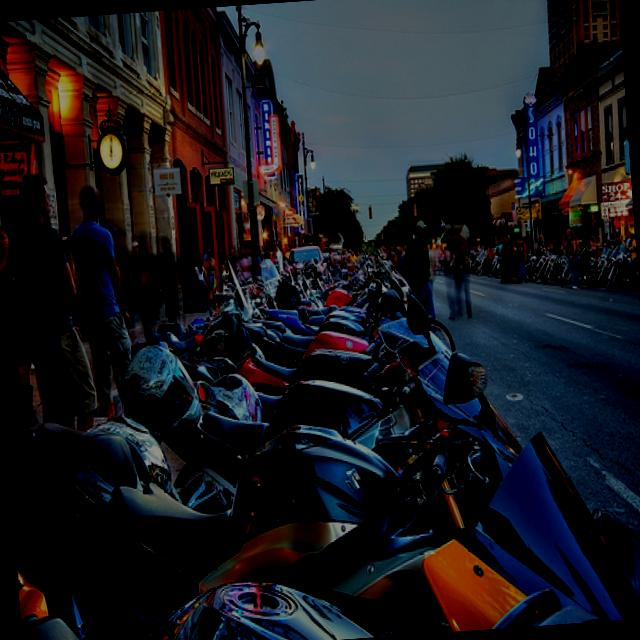Vehicle: (15, 345, 534, 640), (9, 418, 640, 640), (157, 320, 477, 506), (258, 238, 614, 337), (234, 296, 410, 402), (247, 315, 413, 410), (376, 249, 454, 357), (250, 308, 382, 350), (298, 261, 377, 316), (319, 256, 376, 301), (601, 248, 638, 290), (286, 244, 331, 278), (540, 253, 562, 283)
